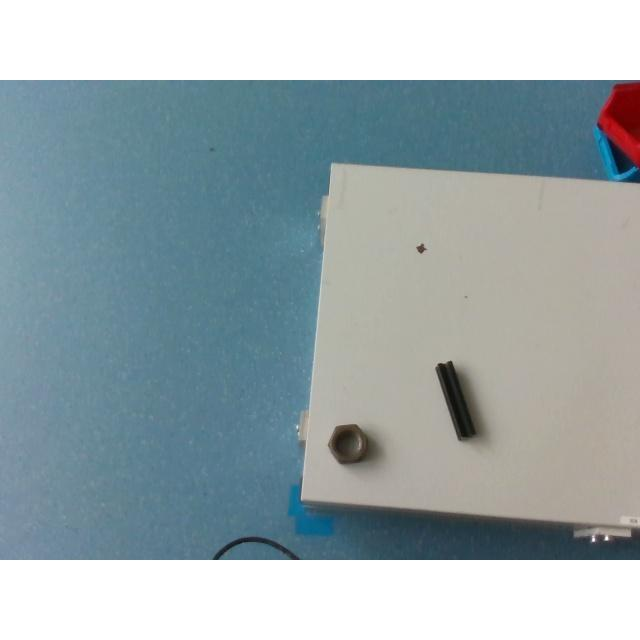F20_20_B: (436, 361, 476, 437)
M30: (327, 424, 369, 464)
